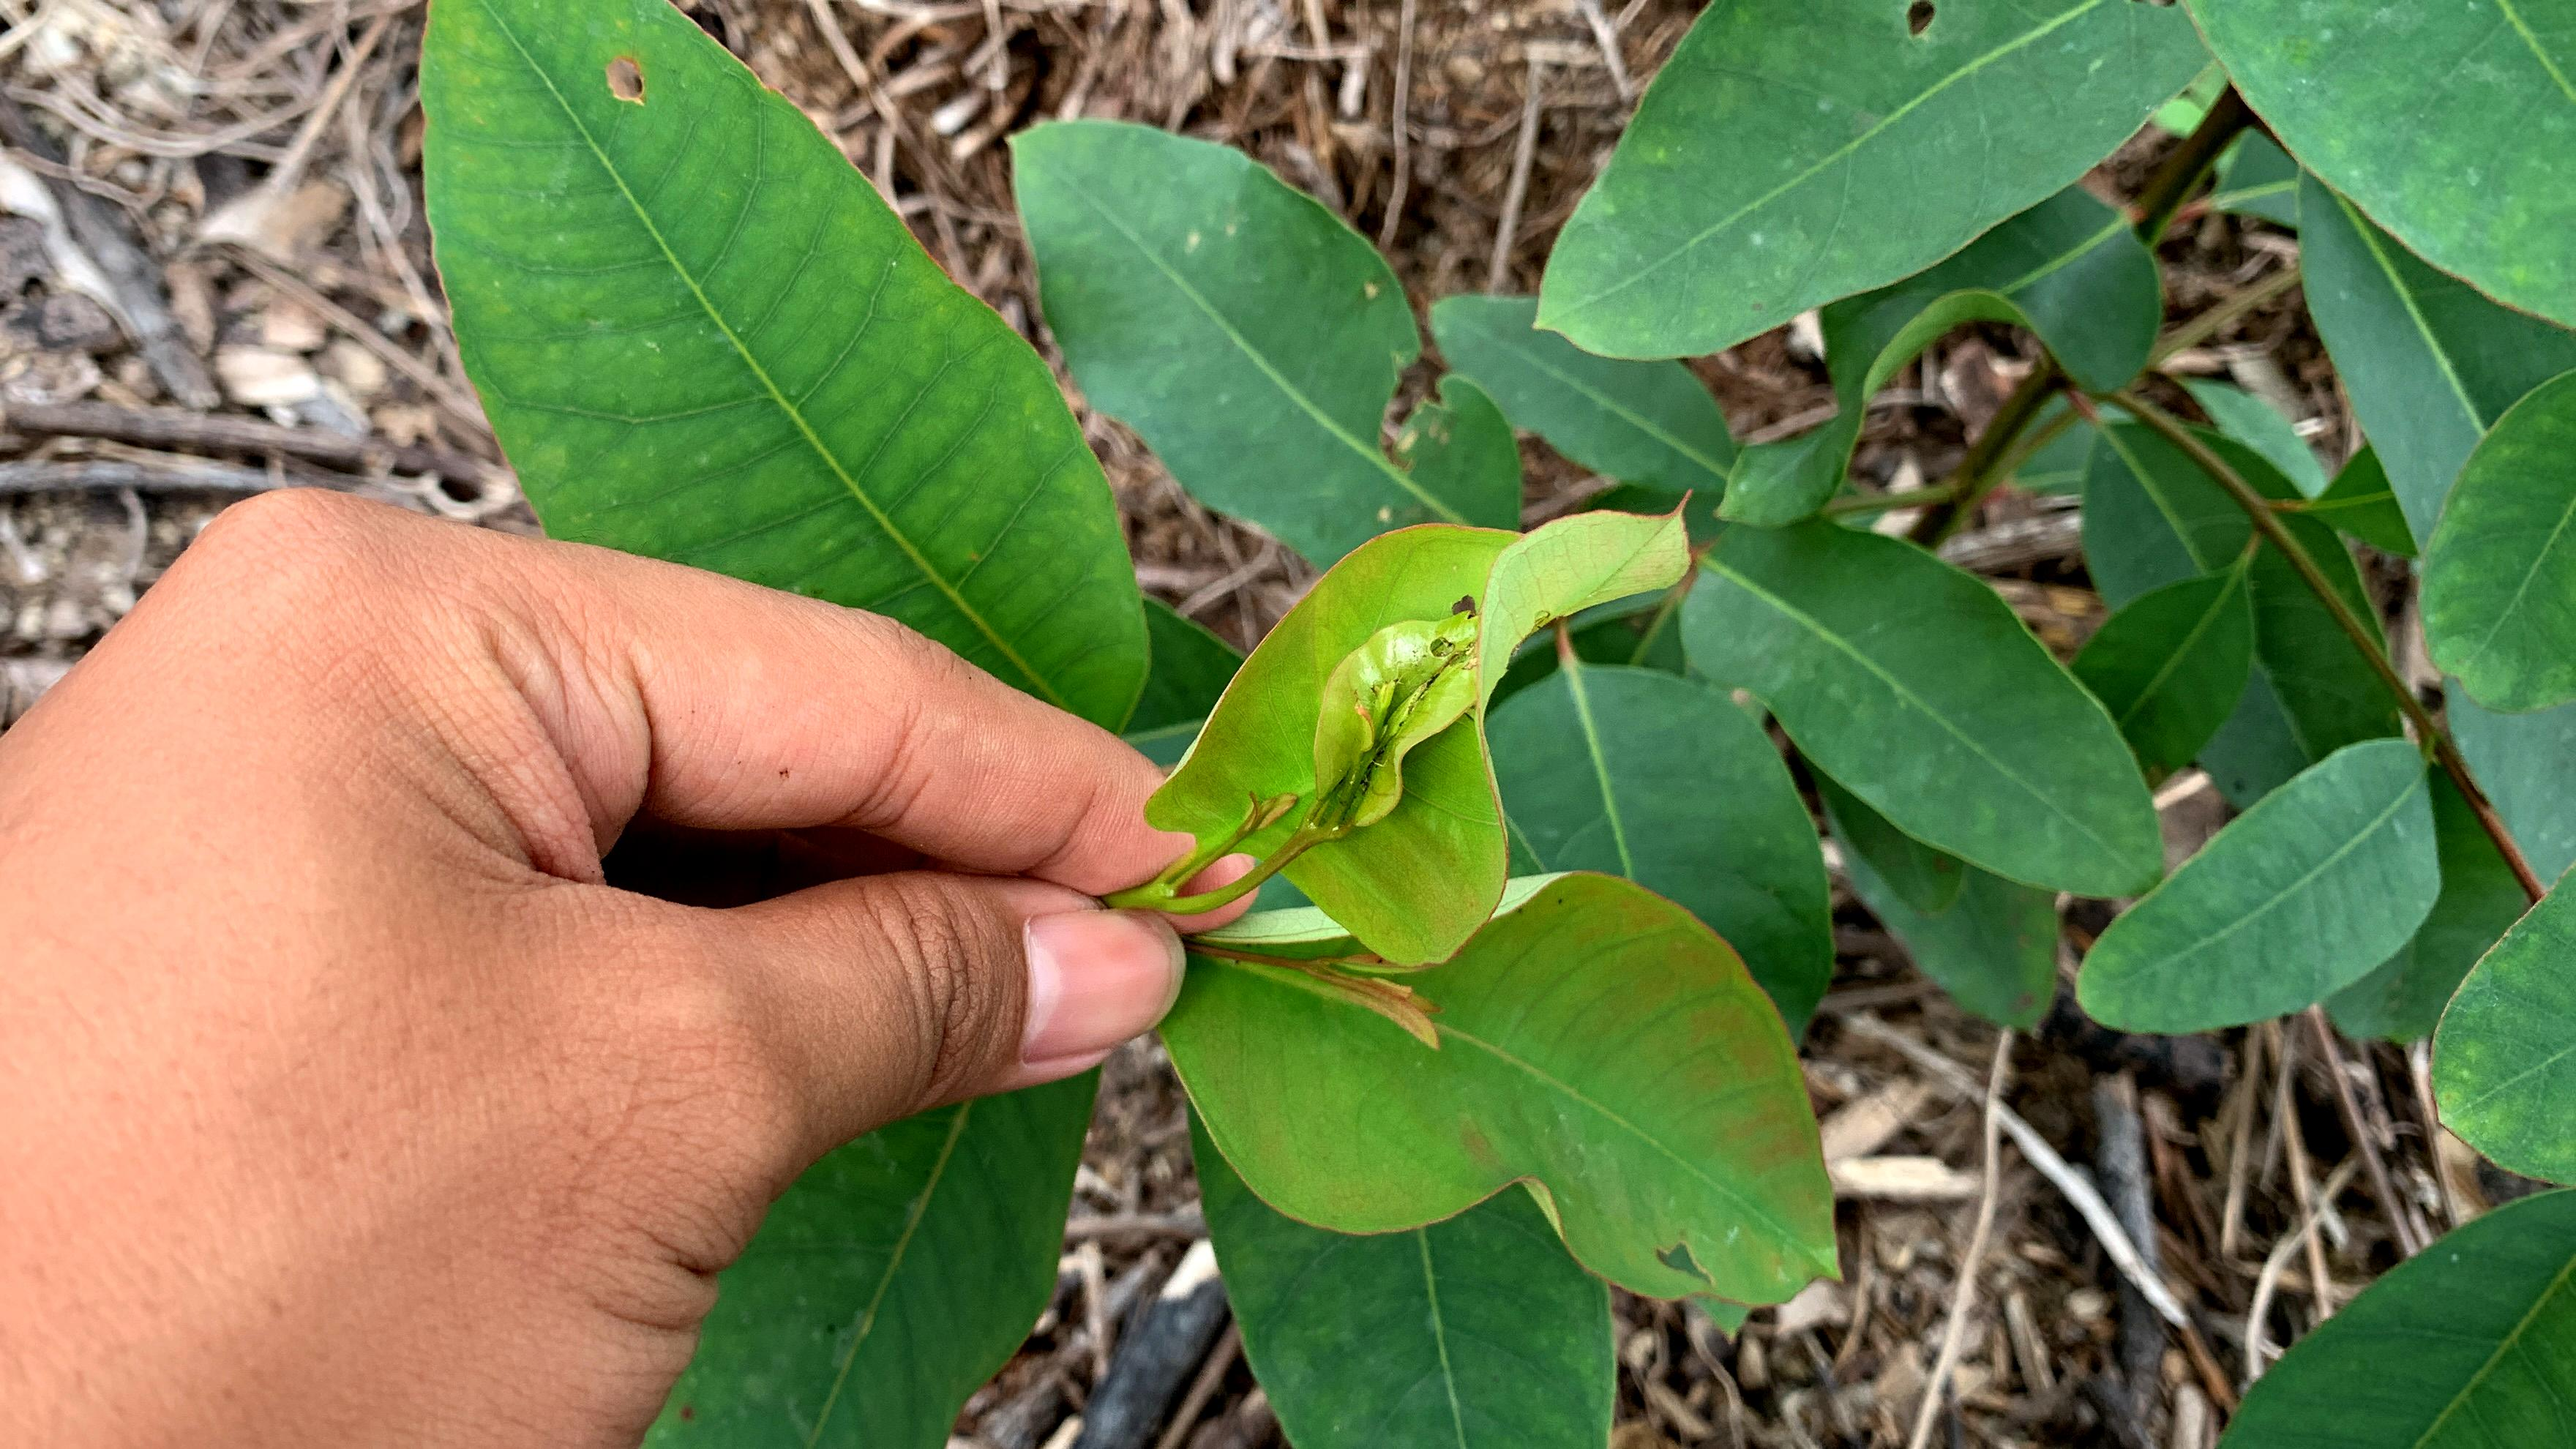Leaf Roller - Leaf: (1155, 462, 1732, 980)
